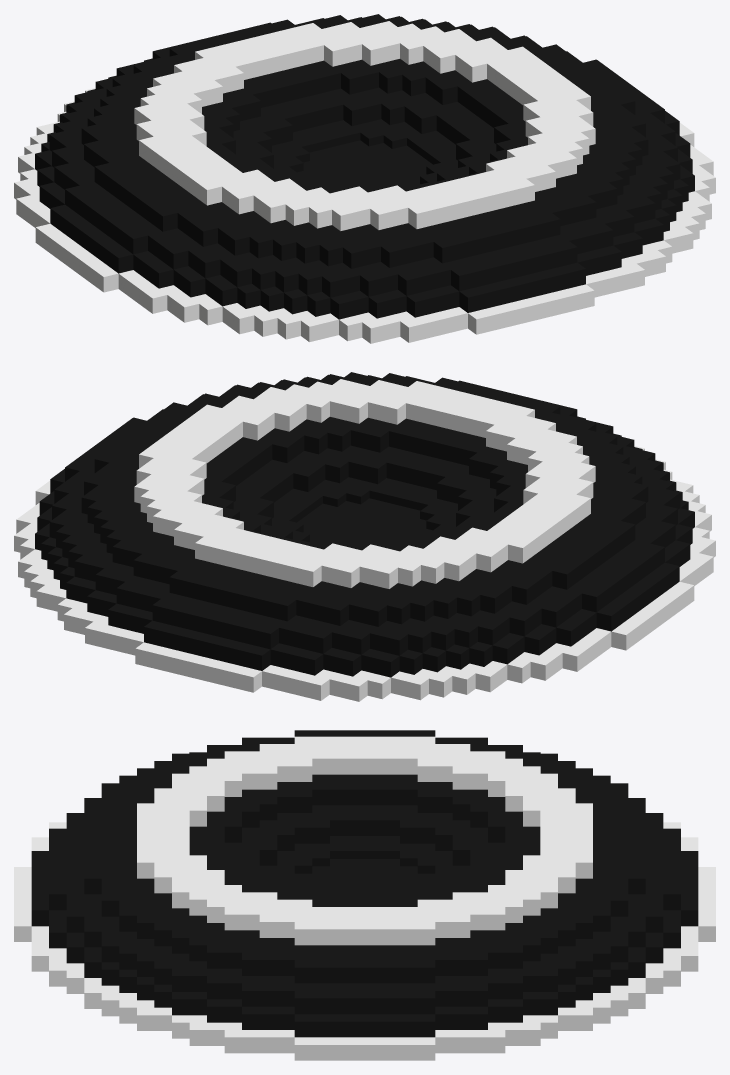
File: upgrade_spawner.fbx
3 views of the same model, one above another, from view 1: azimuth 30°, elevation 25°; view 2: azimuth 150°, elevation 25°; view 3: azimuth 270°, elevation 25° (orthographic). The views are drawn at different scales.
Visible parts, largest first — view 1: upgrade_spawner; view 2: upgrade_spawner; view 3: upgrade_spawner.
Boxes of the visible parts, x1,y1,x2,y2 form: upgrade_spawner: [14, 14, 715, 343]; upgrade_spawner: [14, 372, 715, 701]; upgrade_spawner: [14, 730, 715, 1060].
Bounding box in the file's own units: 80 × 10 × 80.
